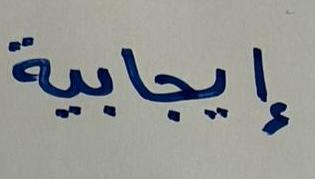alef: (118, 34, 150, 104)
beh: (84, 59, 116, 120)
hamza: (239, 34, 298, 154)
jeem: (150, 61, 194, 124)
teh_marbota: (8, 31, 52, 110)
yeh: (196, 51, 235, 133), (53, 59, 83, 132)
